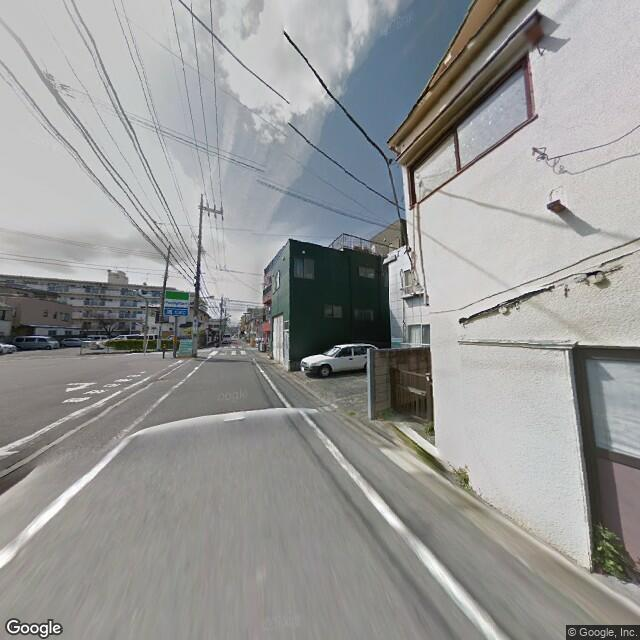family_mart: (162, 286, 190, 317)
